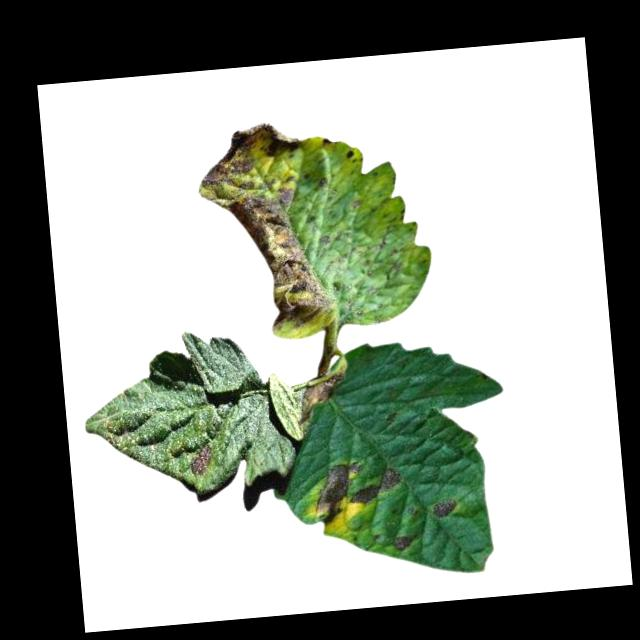Early_blight: (213, 186, 340, 345), (195, 118, 303, 190), (309, 460, 365, 527), (289, 374, 350, 423), (347, 468, 408, 506), (189, 445, 213, 479), (432, 499, 461, 520), (391, 534, 420, 555), (344, 146, 357, 160)
